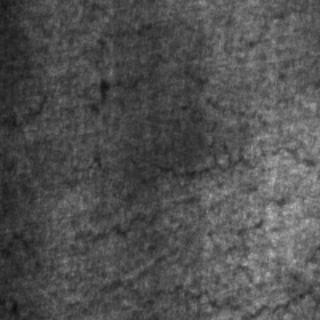crazing: (98, 154, 278, 242), (50, 42, 240, 120), (98, 263, 314, 315)
